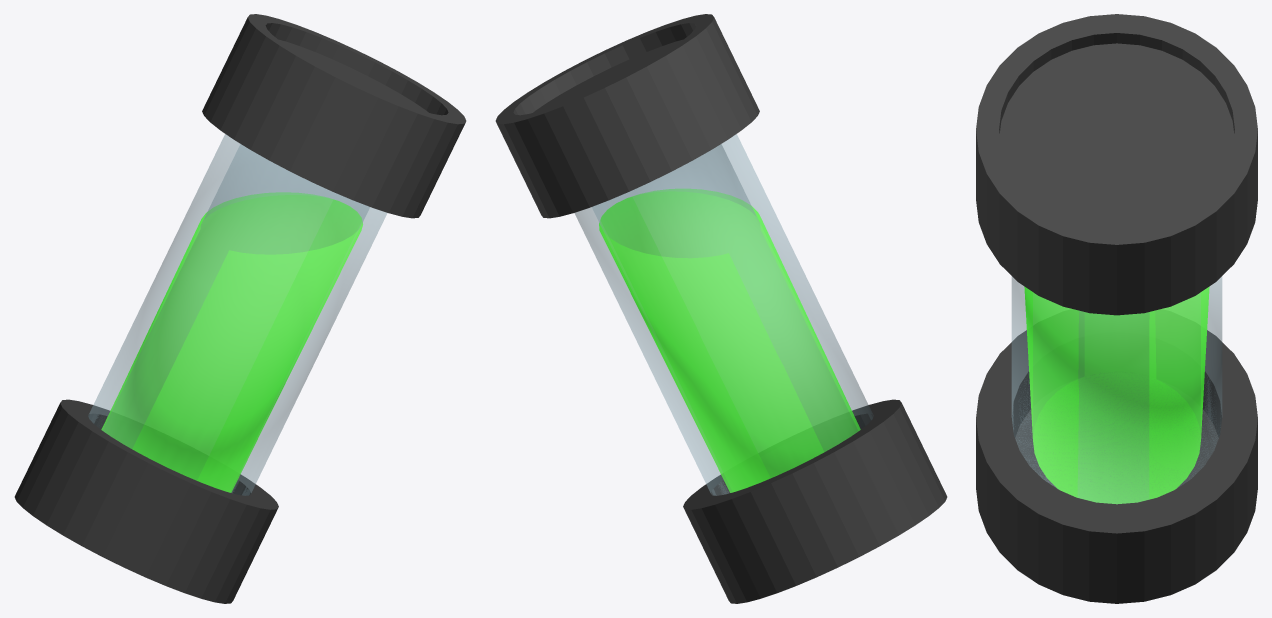
The model's file is Uranium.fbx.
The picture shows the model from 3 angles, left to right: view 1: azimuth 30°, elevation 25°; view 2: azimuth 150°, elevation 25°; view 3: azimuth 270°, elevation 25°; orthographic projection. The views are drawn at different scales.
Visible parts, largest first — view 1: Glass, Uranium, Top, Base; view 2: Glass, Uranium, Top, Base; view 3: Top, Base, Glass, Uranium.
Part boxes in pixels (box(x1,y1,x2,y2)): Glass: box(88, 134, 387, 495); Uranium: box(101, 192, 362, 492); Top: box(202, 14, 466, 218); Base: box(14, 399, 278, 603); Glass: box(574, 134, 873, 495); Uranium: box(599, 189, 860, 492); Top: box(495, 14, 759, 218); Base: box(683, 399, 947, 603); Top: box(976, 14, 1257, 315); Base: box(976, 330, 1257, 603); Glass: box(1011, 276, 1222, 504); Uranium: box(1024, 286, 1209, 504).
Size of the model in its own units: 104 by 128 by 52.74.
